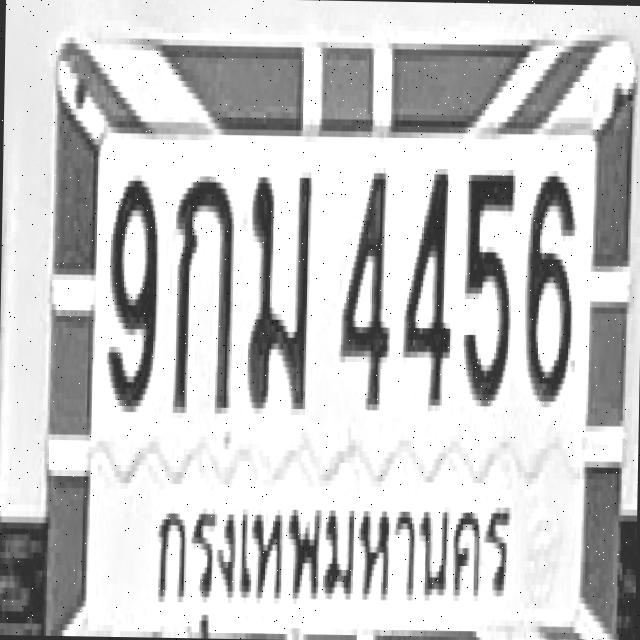10GorGai: (171, 172, 233, 410)
4: (338, 170, 391, 408), (401, 168, 452, 406)
42MorMa: (245, 168, 312, 412)
5: (461, 168, 514, 406)
6: (524, 170, 574, 402)
9: (105, 174, 158, 406)
Bangkok: (148, 468, 525, 640)
